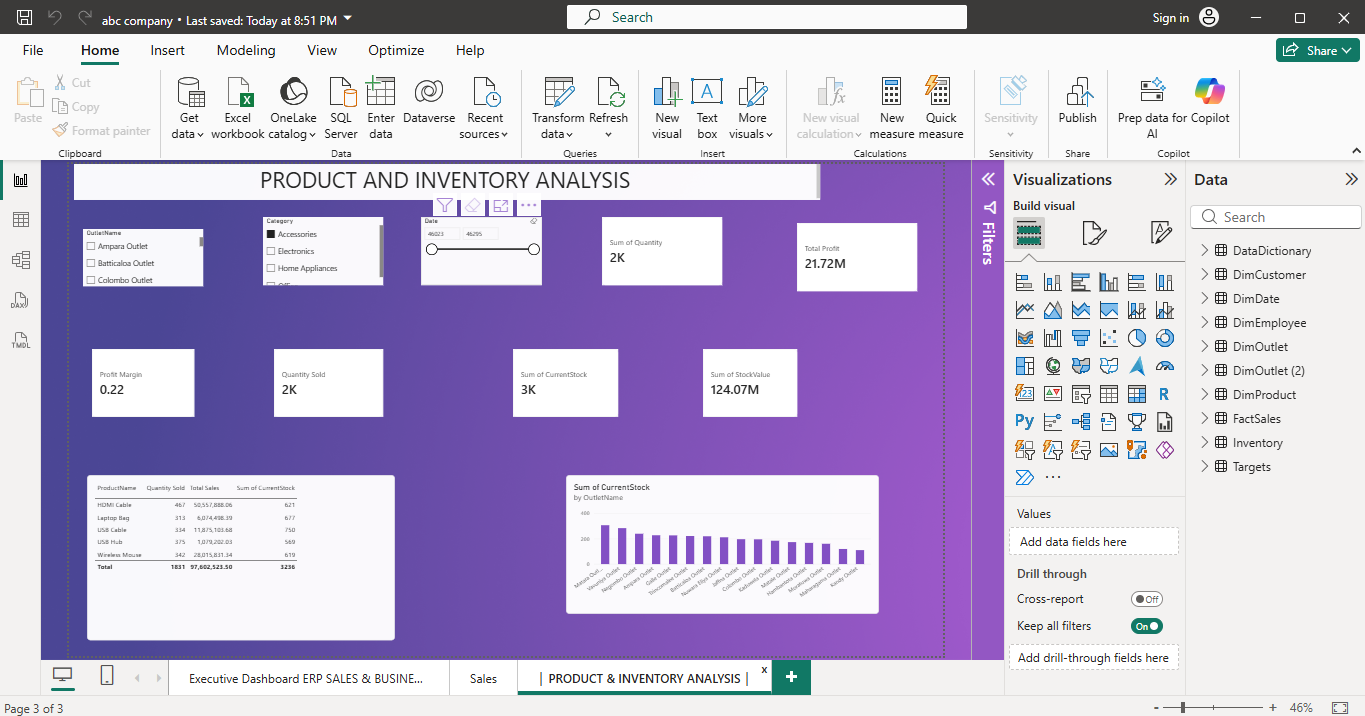

The dashboard page shown, as its layout file describes it:
{"tool":"powerbi","page":{"name":"│              PRODUCT & INVENTORY ANALYSIS                    │","canvas":[1920,1080],"ordinal":2},"visuals":[{"type":"textbox","box":[11,0,1637.6,79],"z":0},{"type":"slicer","fields":{"Values":["DimOutlet.OutletName"]},"box":[30.2,142.6,264,126],"z":1000},{"type":"slicer","fields":{"Values":["DimProduct.Category"]},"box":[425.5,116.6,264,150],"z":2000},{"type":"slicer","fields":{"Values":["DimDate.Date"]},"box":[773.3,116.6,264,150],"z":3000},{"type":"cardVisual","fields":{"Data":["Sum(FactSales.Quantity)"]},"box":[1170.7,116.6,264,150],"z":4000},{"type":"cardVisual","fields":{"Data":["FactSales.Total Profit"]},"box":[1598.4,129.6,264,150],"z":5000},{"type":"cardVisual","fields":{"Data":["FactSales.Profit Margin"]},"box":[49.7,406.1,224.6,149],"z":6000},{"type":"cardVisual","fields":{"Data":["FactSales.Quantity Sold"]},"box":[449.3,406.1,239.8,149],"z":7000},{"type":"cardVisual","fields":{"Data":["Sum(Inventory.CurrentStock)"]},"box":[974.2,406.1,231.1,149],"z":8000},{"type":"cardVisual","fields":{"Data":["Sum(Inventory.StockValue)"]},"box":[1391,406.1,207.4,149],"z":9000},{"type":"tableEx","fields":{"Values":["DimProduct.ProductName","FactSales.Quantity Sold","FactSales.Total Sales","Sum(Inventory.CurrentStock)"]},"box":[38.9,682.6,676.1,362.9],"z":10000},{"type":"clusteredColumnChart","fields":{"Category":["DimOutlet.OutletName"],"Y":["Sum(Inventory.CurrentStock)"]},"box":[1090.8,682.6,686.9,304.6],"z":11000}]}

Visuals, with their boxes on the page's 1920x1080 design canvas (x1, y1, x2, y2). These are canvas units, not pixel positions in the 1365x716 screenshot, which may show the page scaled, cropped or inside an application window:
textbox: [11, 0, 1649, 79]
slicer - DimOutlet.OutletName: [30, 143, 294, 269]
slicer - DimProduct.Category: [426, 117, 690, 267]
slicer - DimDate.Date: [773, 117, 1037, 267]
cardVisual - Sum(FactSales.Quantity): [1171, 117, 1435, 267]
cardVisual - FactSales.Total Profit: [1598, 130, 1862, 280]
cardVisual - FactSales.Profit Margin: [50, 406, 274, 555]
cardVisual - FactSales.Quantity Sold: [449, 406, 689, 555]
cardVisual - Sum(Inventory.CurrentStock): [974, 406, 1205, 555]
cardVisual - Sum(Inventory.StockValue): [1391, 406, 1598, 555]
tableEx - DimProduct.ProductName x FactSales.Quantity Sold: [39, 683, 715, 1046]
clusteredColumnChart - DimOutlet.OutletName x Sum(Inventory.CurrentStock): [1091, 683, 1778, 987]
